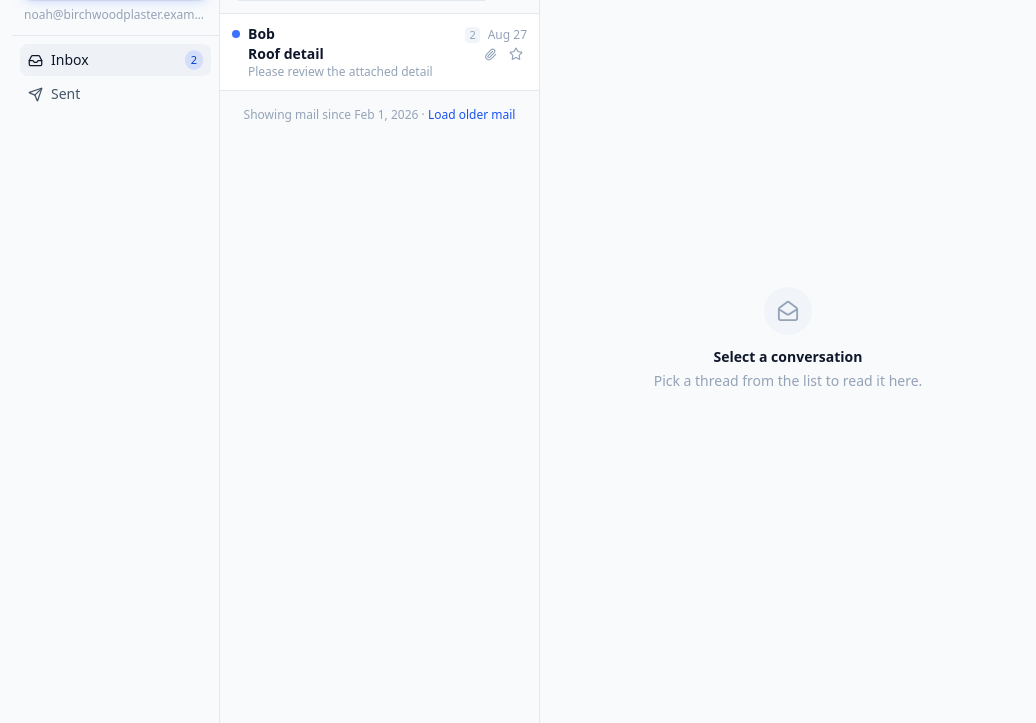
Scenario: MailPage › switches folder from the rail without leaving the account
Check: the text "Roof detail" is shown, box top-left (248, 44), bottom-right (324, 63)
Click the button with test id "mail-folder-row" at (116, 94), box top-left (20, 78), bottom-right (211, 110)
(page scrolled)
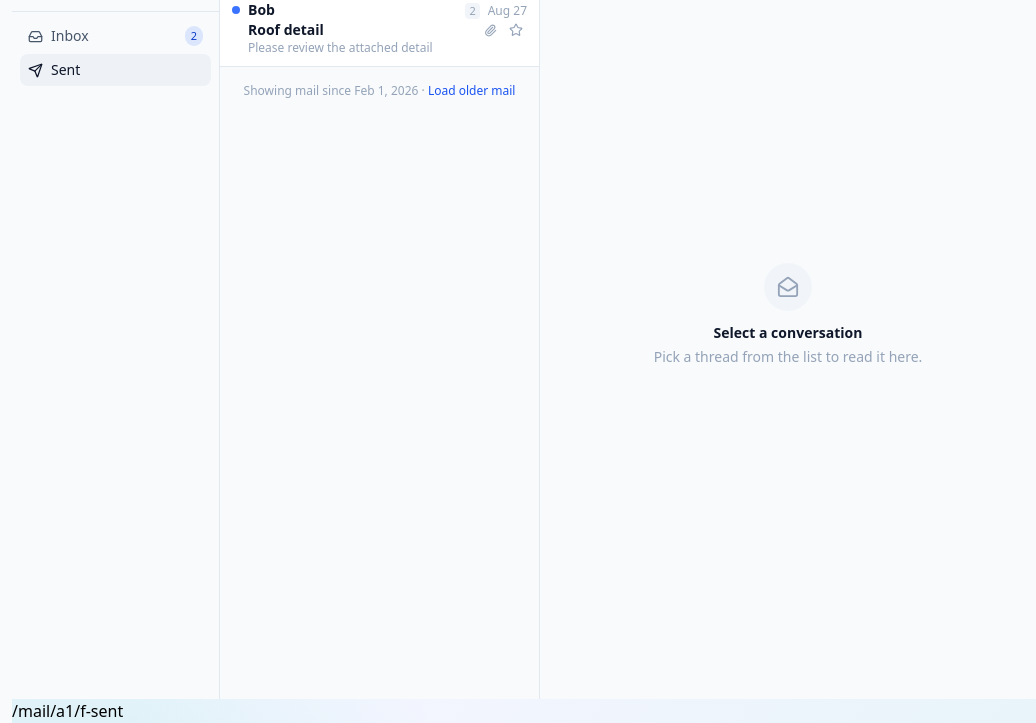
Check: the text with test id "loc" reads "/mail/a1/f-sent", box top-left (12, 700), bottom-right (123, 722)
